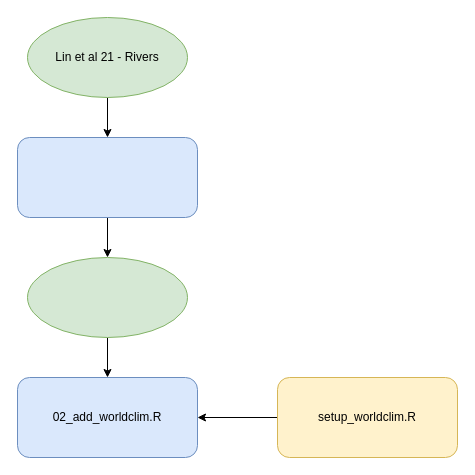
Image size: 475x475. Some labels were removed from this diagram. The shapes that lost their labels are listed below. From the top down, each one's centre as x and y in pixels, then its label:
pixel 107 177: 01_combine_and_crop.R
pixel 107 297: 01_rivers_cropped.rds
